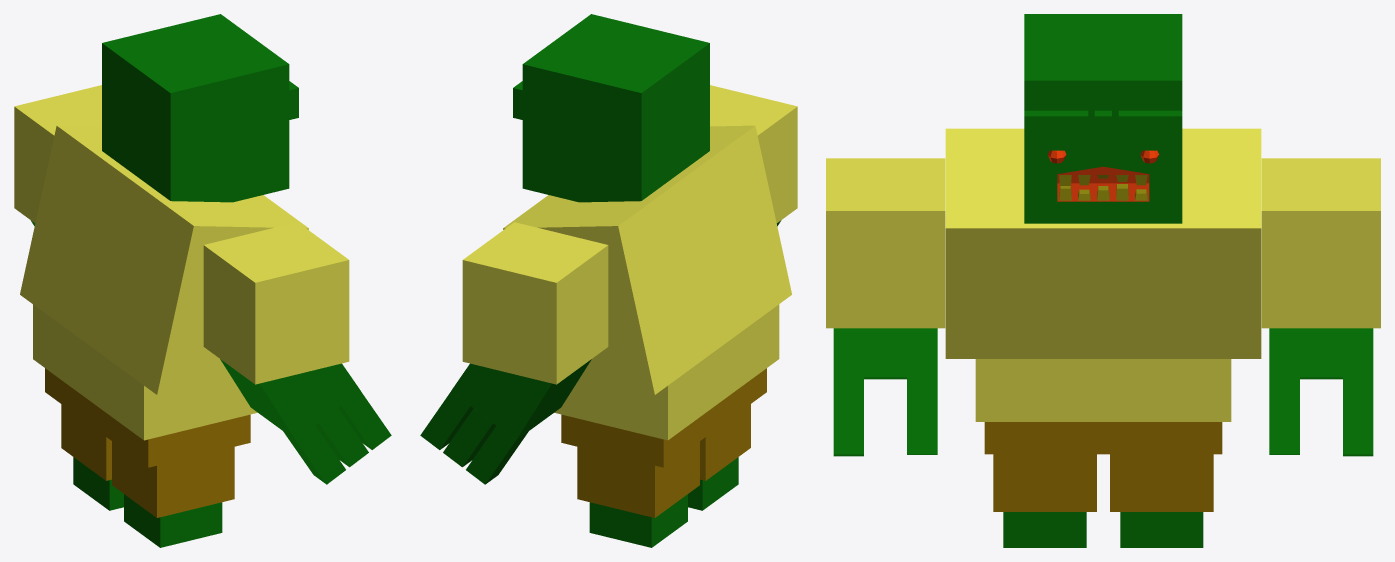
The model's file is Зомбі.fbx.
The picture shows the model from 3 angles, left to right: view 1: azimuth 30°, elevation 25°; view 2: azimuth 150°, elevation 25°; view 3: azimuth 270°, elevation 25°; orthographic projection. The views are drawn at different scales.
Parts seen in each view (by area): view 1: Зомбі, Голова, Права_рука, Живіт, Права_нога, Ліва_рука, Пояс, Ліва_нога; view 2: Зомбі, Голова, Ліва_рука, Живіт, Ліва_нога, Права_рука, Пояс, Права_нога; view 3: Зомбі, Голова, Права_рука, Ліва_рука, Живіт, Ліва_нога, Права_нога, Пояс, Зуби.
Boxes of the visible parts, x1=… form: Зомбі: x1=20, y1=125, x2=308, y2=394; Голова: x1=102, y1=14, x2=298, y2=202; Права_рука: x1=203, y1=222, x2=391, y2=484; Живіт: x1=33, y1=304, x2=257, y2=440; Права_нога: x1=112, y1=441, x2=234, y2=547; Ліва_рука: x1=14, y1=85, x2=101, y2=225; Пояс: x1=45, y1=368, x2=250, y2=467; Ліва_нога: x1=61, y1=404, x2=123, y2=510; Зомбі: x1=503, y1=125, x2=791, y2=394; Голова: x1=513, y1=14, x2=709, y2=202; Ліва_рука: x1=420, y1=222, x2=608, y2=484; Живіт: x1=554, y1=304, x2=779, y2=440; Ліва_нога: x1=577, y1=441, x2=699, y2=547; Права_рука: x1=710, y1=85, x2=797, y2=226; Пояс: x1=561, y1=368, x2=766, y2=467; Права_нога: x1=688, y1=404, x2=750, y2=510; Зомбі: x1=945, y1=128, x2=1261, y2=358; Голова: x1=1024, y1=14, x2=1182, y2=223; Права_рука: x1=826, y1=158, x2=945, y2=456; Ліва_рука: x1=1261, y1=158, x2=1380, y2=456; Живіт: x1=975, y1=359, x2=1231, y2=421; Ліва_нога: x1=1110, y1=454, x2=1213, y2=547; Права_нога: x1=993, y1=454, x2=1096, y2=547; Пояс: x1=984, y1=422, x2=1222, y2=454; Зуби: x1=1057, y1=166, x2=1149, y2=200.
Size of the model in its own units: 86.48 by 197 by 194.
